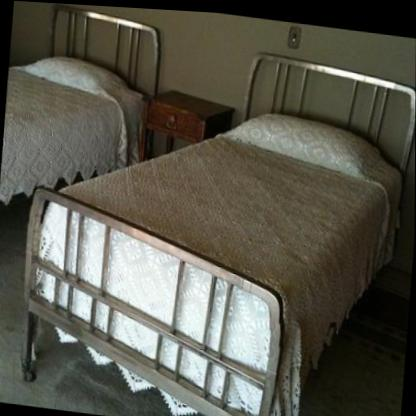Bed: (16, 22, 416, 416), (0, 0, 165, 229)
